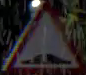Speed Breaker ahead: (2, 0, 81, 73)
